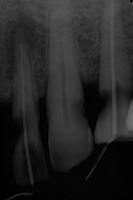Furcation Involvement: (4, 13, 37, 80)
